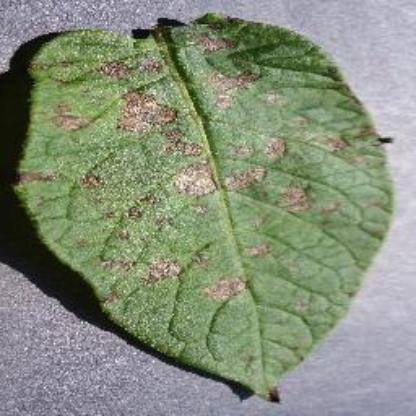Early-Blight: (18, 11, 396, 401)
